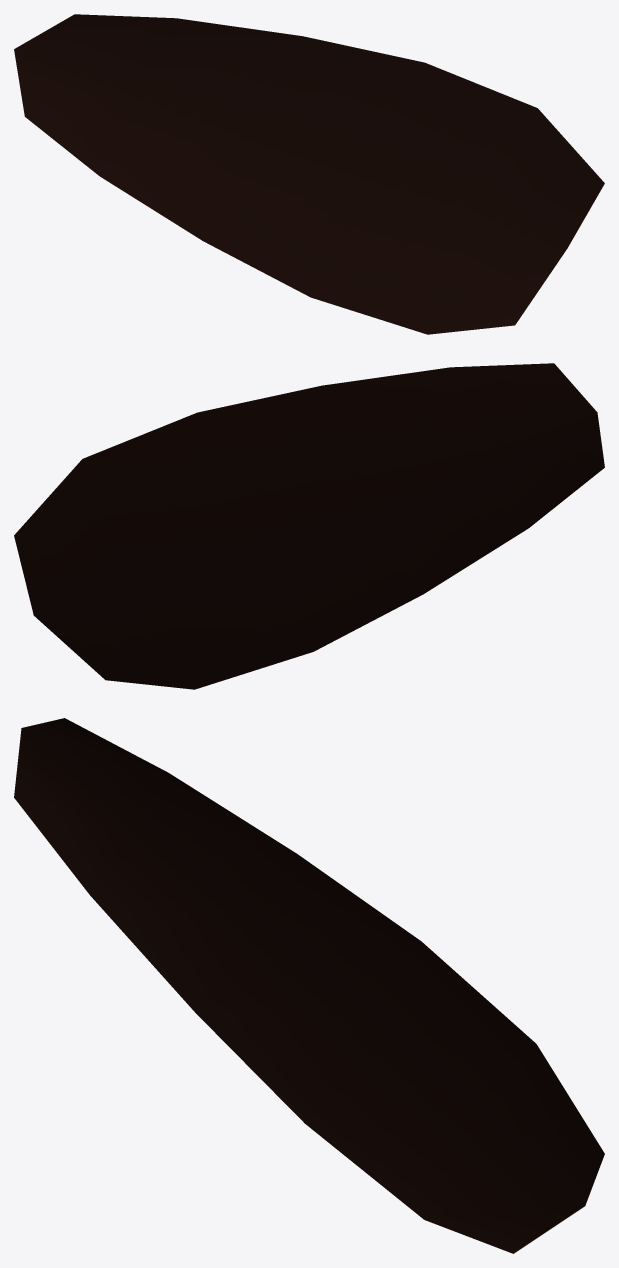
The model's file is finch_feather_flight_secondary_031.obj.
The picture shows the model from 3 angles, top to bottom: view 1: azimuth 30°, elevation 25°; view 2: azimuth 150°, elevation 25°; view 3: azimuth 330°, elevation 25°; orthographic projection.
Parts seen in each view (by area): view 1: feather_flight_secondary_031; view 2: feather_flight_secondary_031; view 3: feather_flight_secondary_031.
Boxes of the visible parts, left/top/right/bottom form: feather_flight_secondary_031: left=14, top=14, right=604, bottom=334; feather_flight_secondary_031: left=14, top=363, right=604, bottom=689; feather_flight_secondary_031: left=14, top=718, right=604, bottom=1253.
Bounding box in the file's own units: 0.0124 × 0.00854 × 0.000336.
